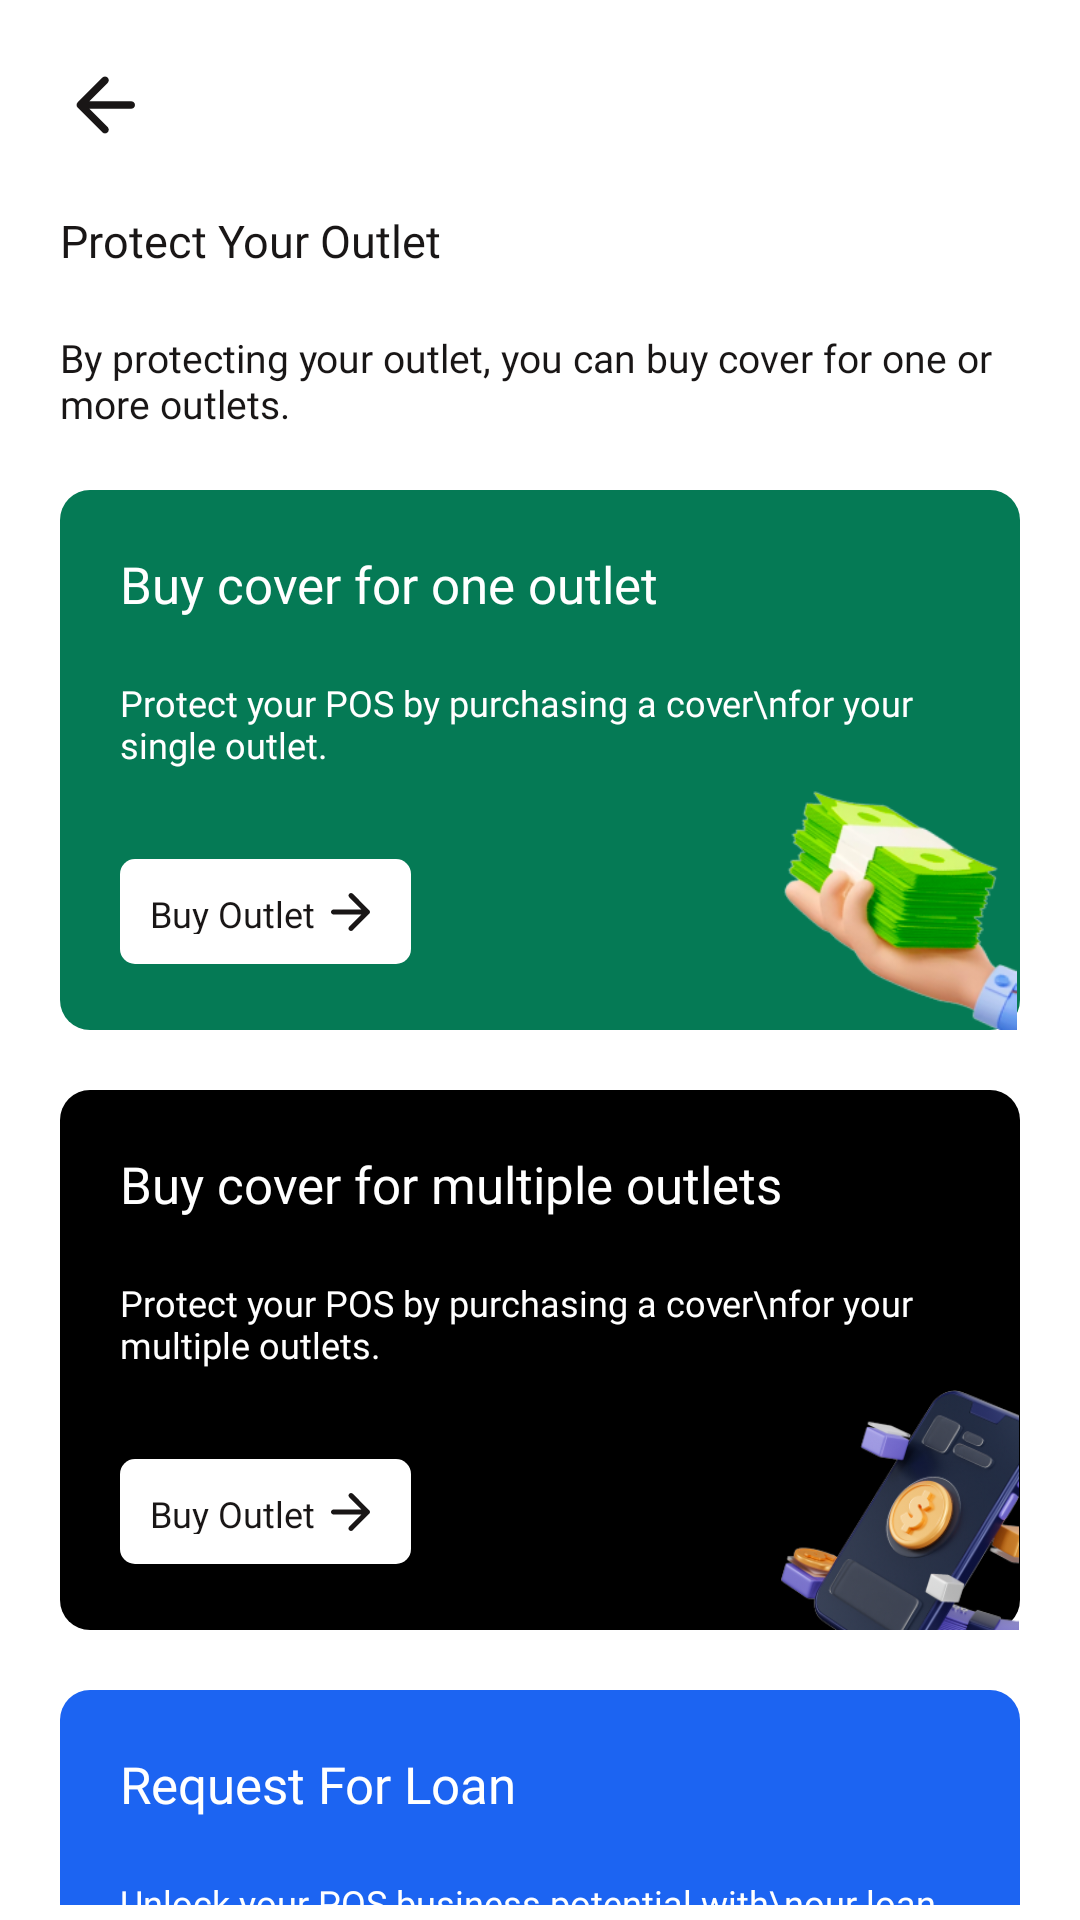

Screen size 1080w x 1920h. Icon name, then its center in pixels as point (x, y):
arrow left: point (105, 105)
arrow right: point (350, 912), point (350, 1512)
